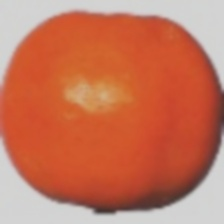tangerine: (16, 22, 181, 200)
